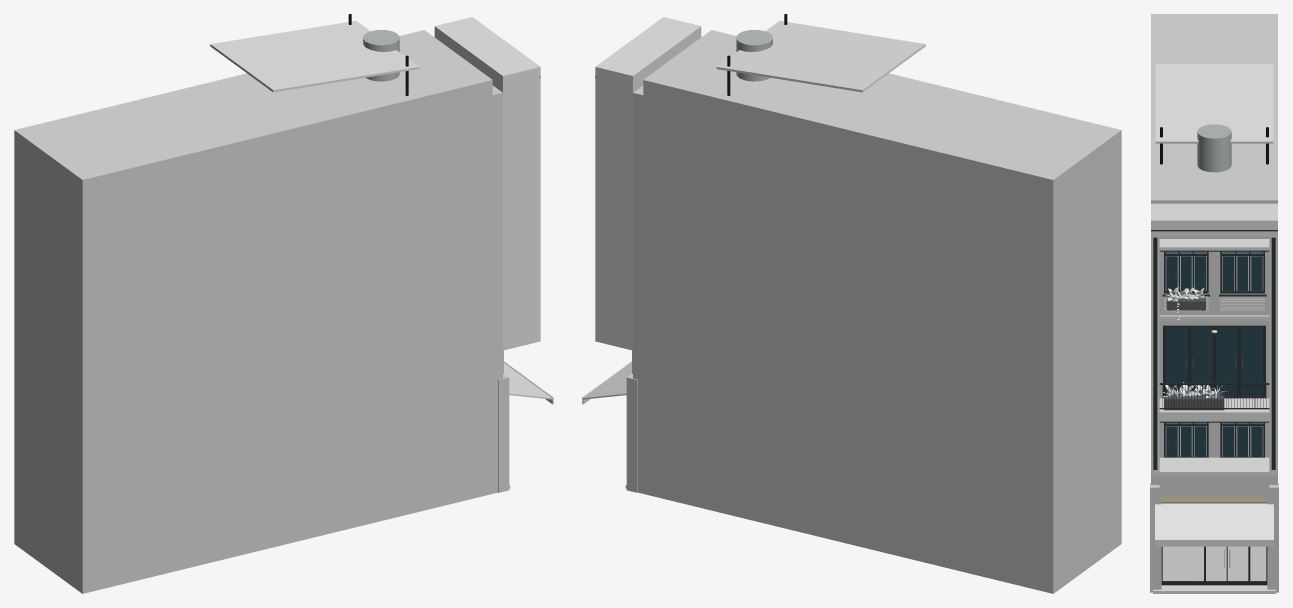
File: OW_Mau_NhaPho_4_5_2_B.fbx
The picture shows the model from 3 angles, left to right: view 1: azimuth 30°, elevation 25°; view 2: azimuth 150°, elevation 25°; view 3: azimuth 270°, elevation 25°; orthographic projection. The views are drawn at different scales.
Parts seen in each view (by area): view 1: OW_NhaPho_9005; view 2: OW_NhaPho_9005; view 3: OW_NhaPho_9005, OW_MatTienKinh.
Boxes of the visible parts, x1,y1,x2,y2 form: OW_NhaPho_9005: (14, 14, 553, 593); OW_NhaPho_9005: (582, 14, 1121, 593); OW_NhaPho_9005: (1150, 14, 1278, 593); OW_MatTienKinh: (1161, 495, 1267, 585).
Bounding box in the file's own units: 17.77 × 16.31 × 4.5.
